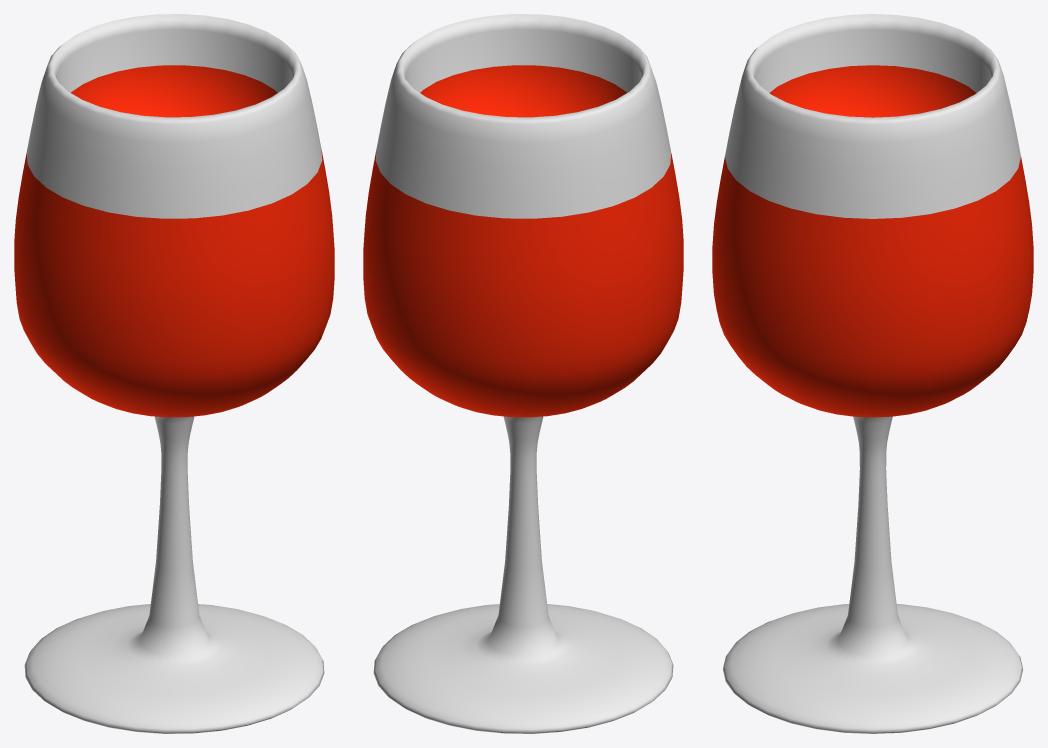
The model's file is GlassOfBlood.fbx.
The picture shows the model from 3 angles, left to right: view 1: azimuth 30°, elevation 25°; view 2: azimuth 150°, elevation 25°; view 3: azimuth 270°, elevation 25°; orthographic projection.
Parts seen in each view (by area): view 1: GlassOfBlood; view 2: GlassOfBlood; view 3: GlassOfBlood.
Boxes of the visible parts, left/top/right/bottom form: GlassOfBlood: left=14, top=14, right=334, bottom=733; GlassOfBlood: left=363, top=14, right=683, bottom=733; GlassOfBlood: left=712, top=14, right=1033, bottom=733.
Bounding box in the file's own units: 26.51 × 55.48 × 26.51.
